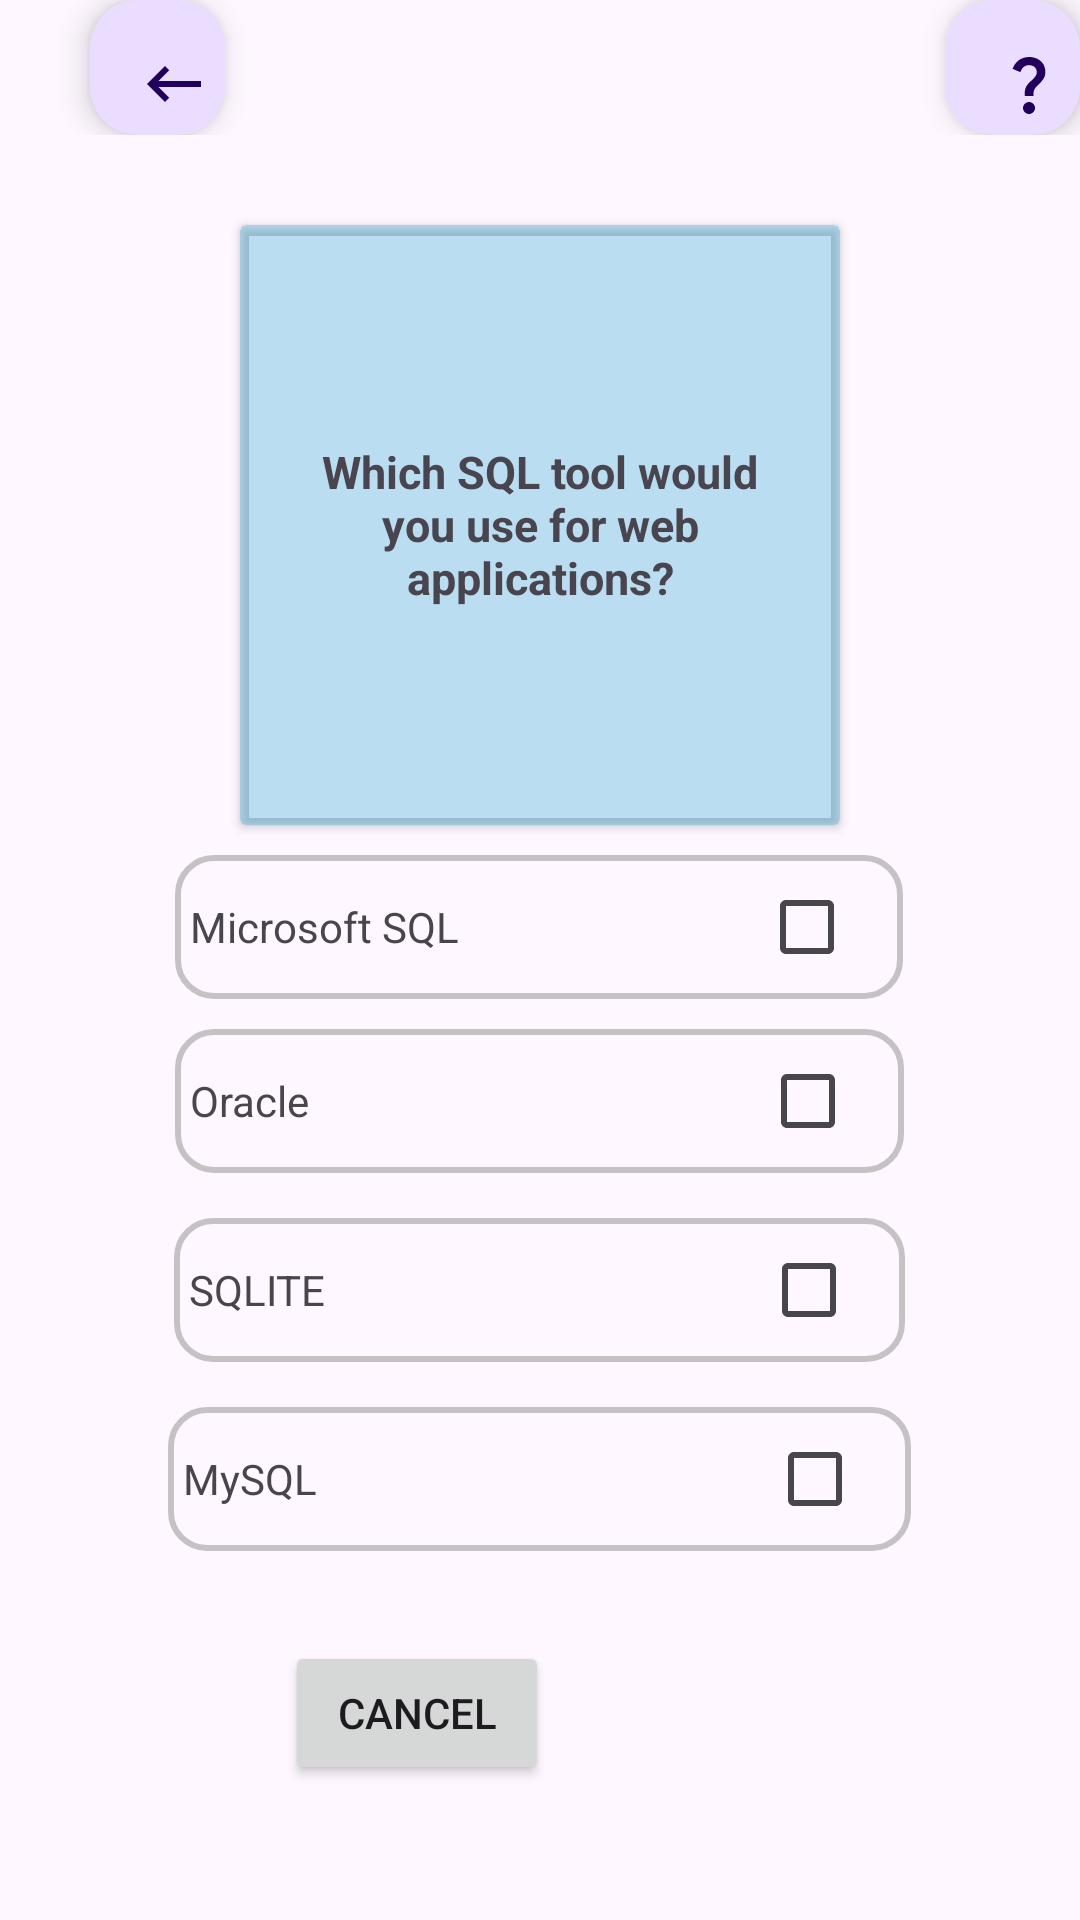

Named icons in this screenshot (1080×1920) and their centers, point (x, y):
keyboard backspace: point (157, 67)
question mark: point (1012, 67)
